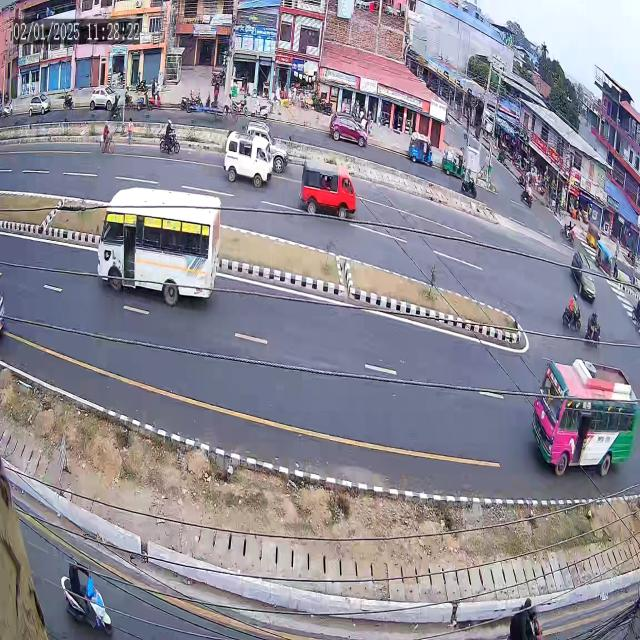bus: (87, 169, 224, 332), (521, 343, 640, 488)
car: (569, 247, 601, 307)
cycle: (94, 120, 118, 161)
van: (296, 152, 361, 229), (215, 122, 276, 191)
